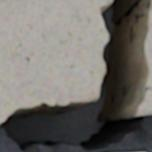broken_brick: (0, 0, 112, 122), (134, 0, 151, 115)
crack: (0, 0, 149, 151)
